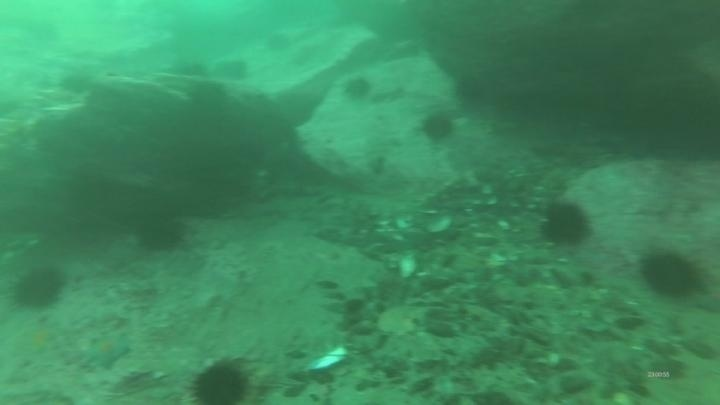echinus: (637, 246, 705, 303), (187, 357, 253, 405), (10, 264, 67, 313), (539, 199, 593, 248), (132, 209, 188, 255), (188, 80, 230, 118), (452, 71, 491, 109), (419, 110, 457, 145), (213, 56, 252, 85), (341, 74, 374, 105), (263, 30, 293, 56)
starfish: (80, 331, 134, 372), (19, 321, 60, 357)
